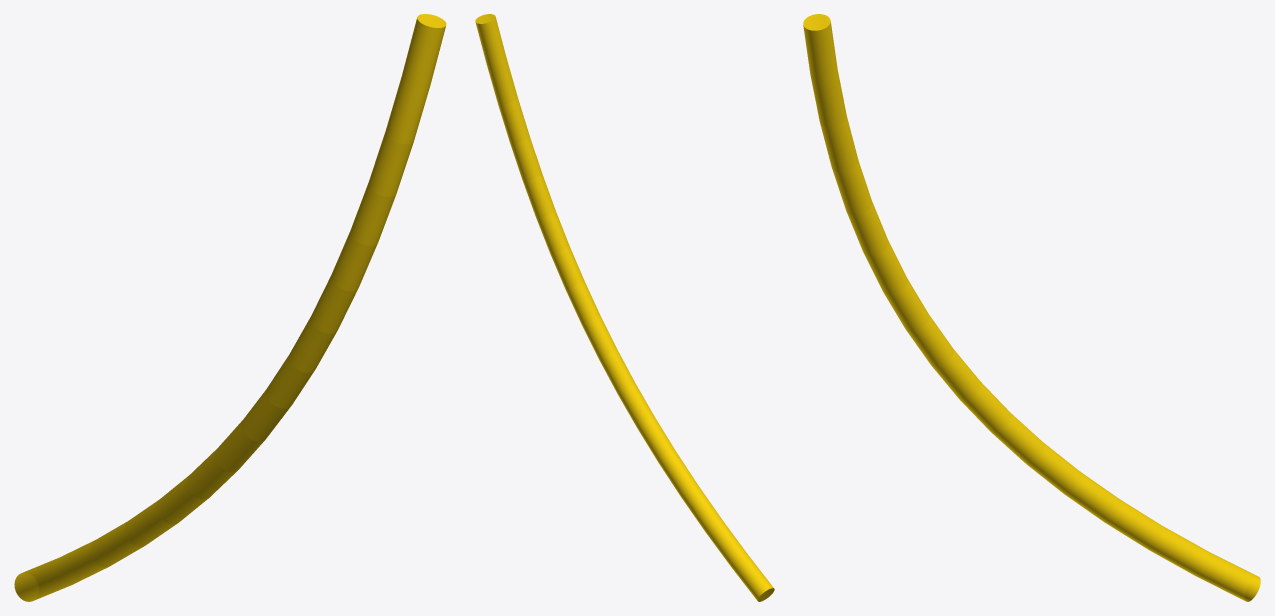
File: Event_420107950_track_65.fbx
3 views of the same model, side by side, from view 1: azimuth 30°, elevation 25°; view 2: azimuth 210°, elevation 25°; view 3: azimuth 270°, elevation 25° (orthographic). The views are drawn at different scales.
Parts seen in each view (by area): view 1: Model; view 2: Model; view 3: Model.
Part boxes in pixels (left/top/right/bottom): Model: left=14, top=14, right=446, bottom=601; Model: left=475, top=14, right=774, bottom=601; Model: left=803, top=14, right=1260, bottom=601.
Size of the model in its own units: 0.2953 by 1.04 by 0.6582.
